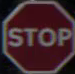Stop: (0, 6, 72, 63)
